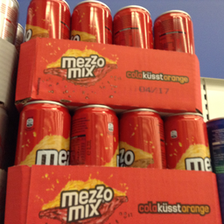soda: (14, 101, 70, 165), (68, 103, 118, 165), (117, 108, 165, 167), (164, 111, 211, 170), (112, 5, 155, 48), (154, 9, 195, 53), (72, 1, 113, 44), (25, 1, 70, 38)
